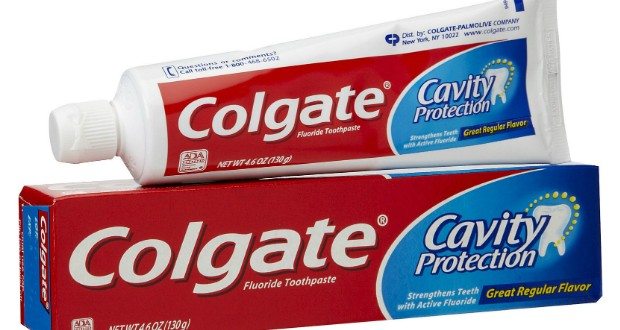Nonrec_Plastic: (12, 4, 596, 184)
Rec_Paper: (9, 183, 613, 329)
